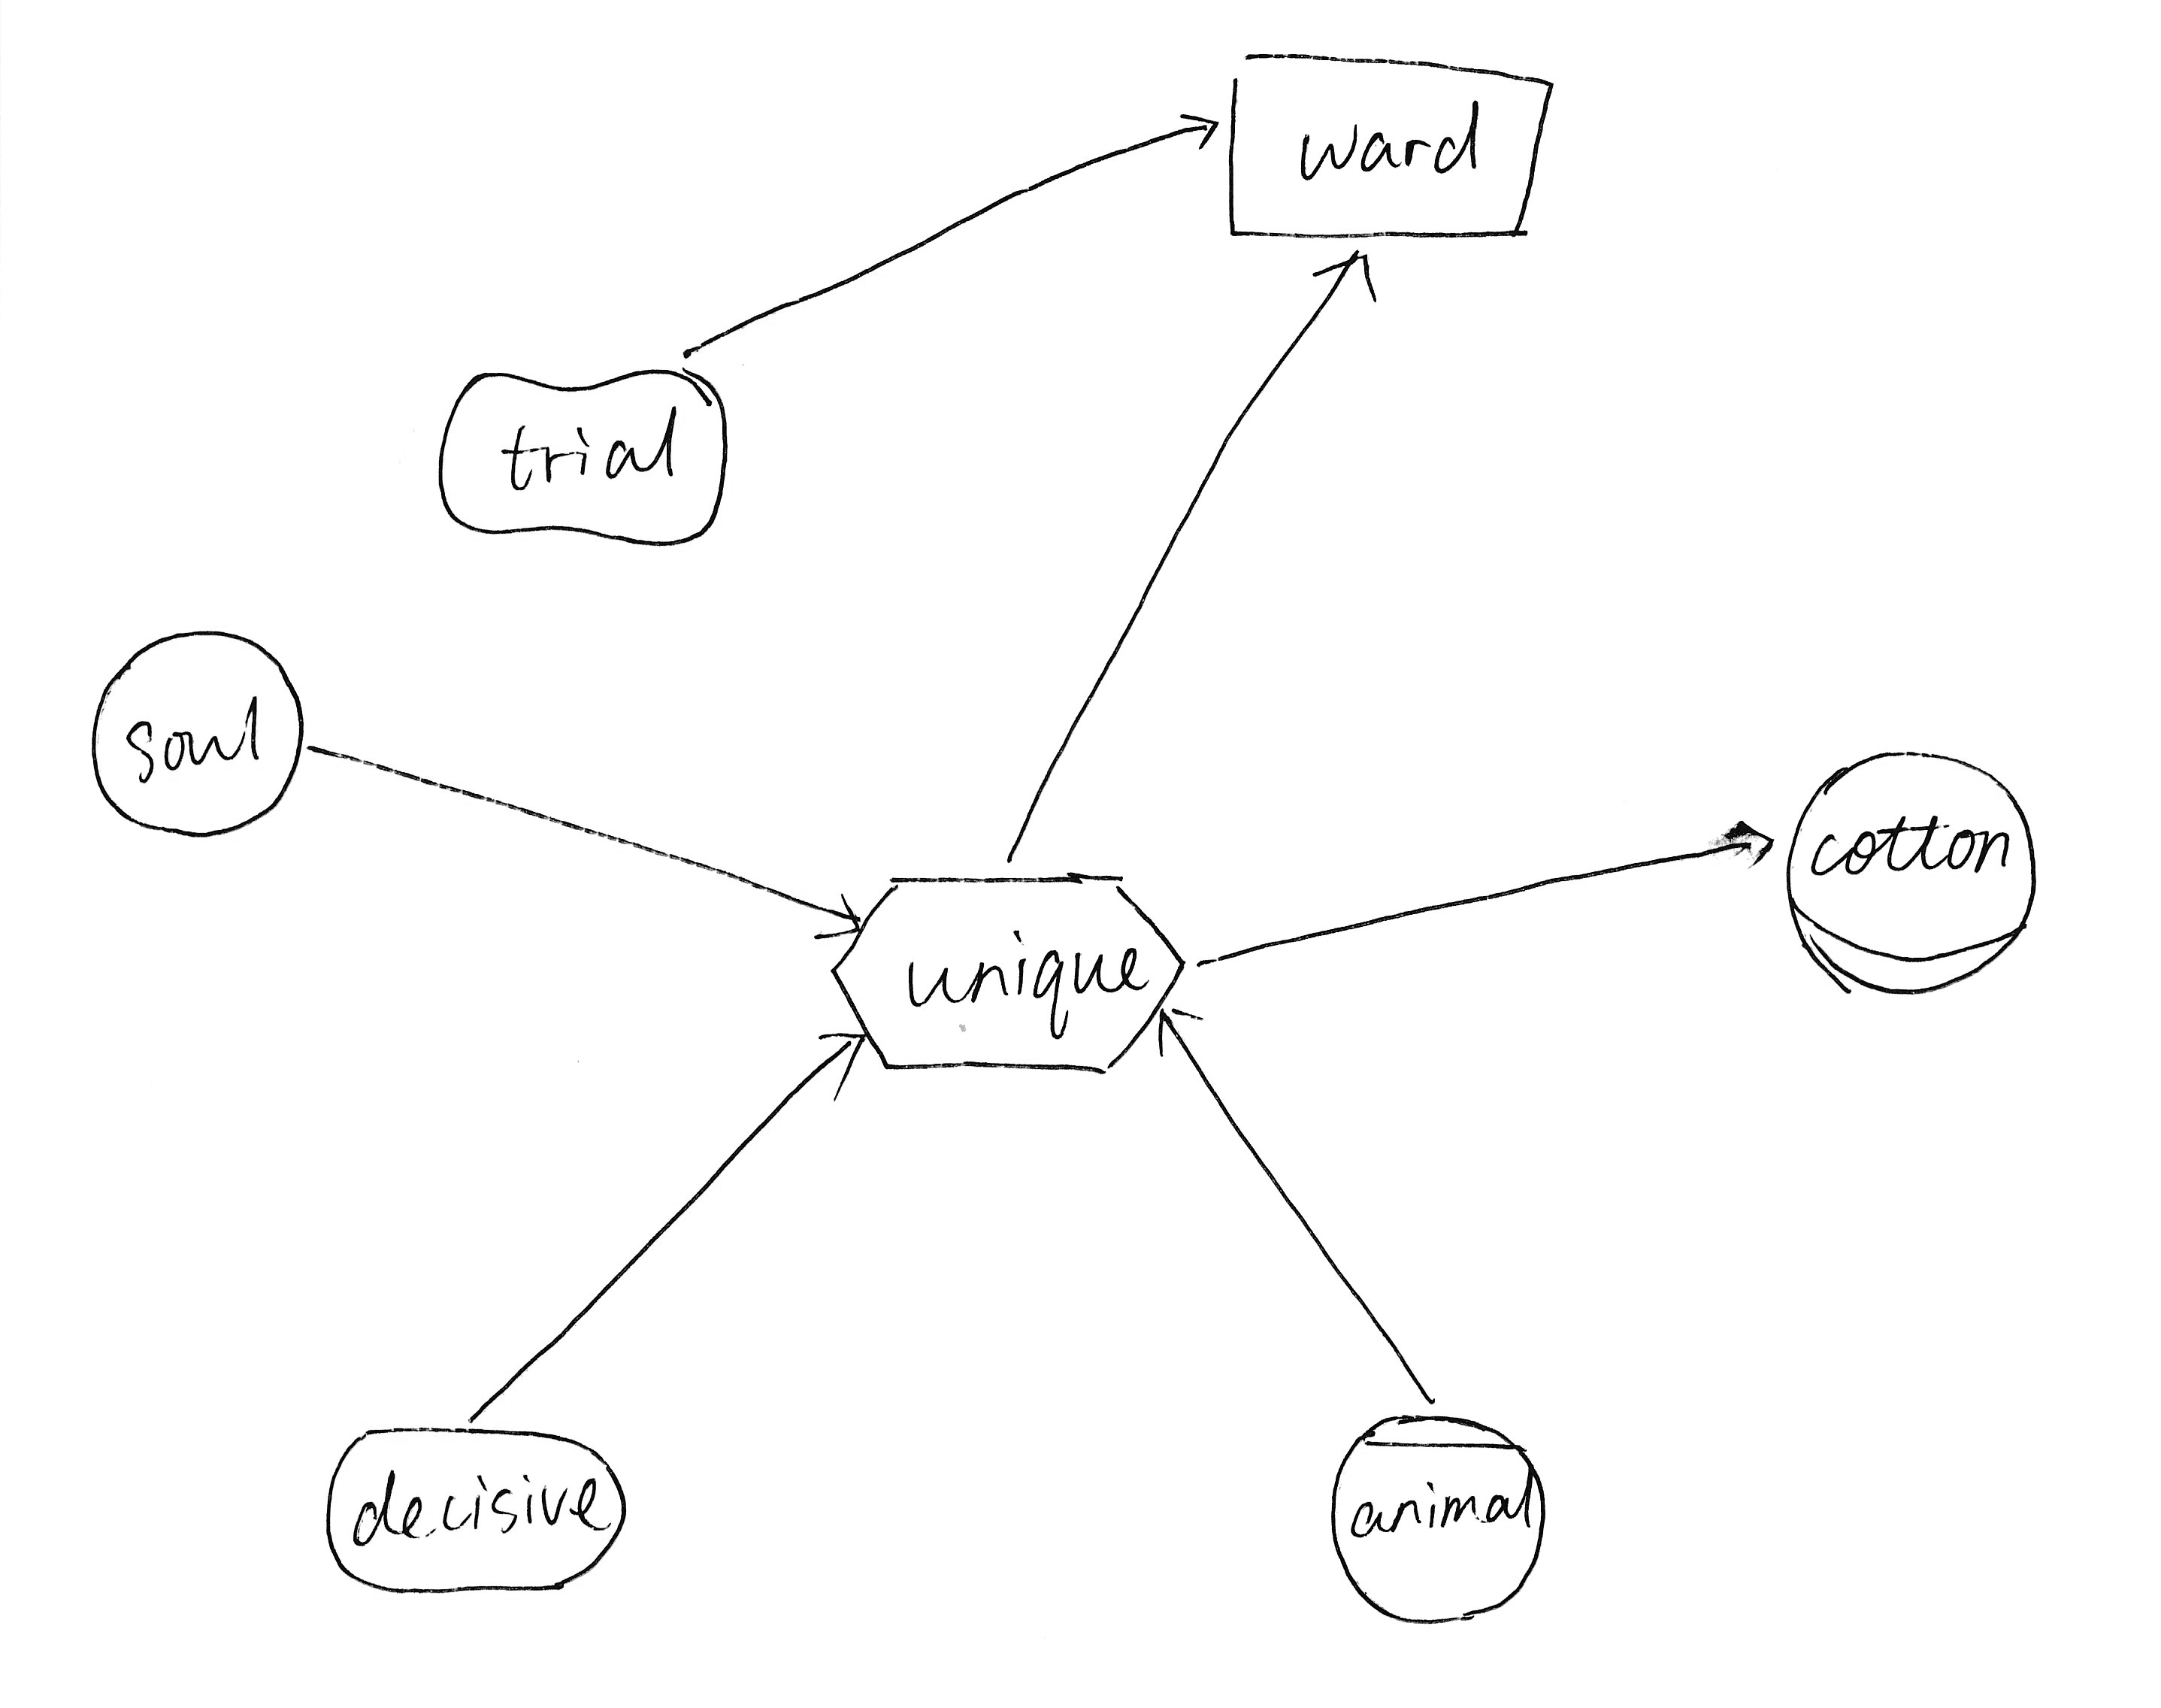actor: (75, 610, 317, 849)
agent: (1317, 1396, 1565, 1640)
arrow: (1302, 242, 1387, 317), (812, 1017, 882, 1107), (1168, 95, 1231, 175), (1149, 994, 1205, 1080), (1714, 803, 1780, 875), (812, 880, 874, 956)
goal: (312, 1410, 642, 1615)
quality: (424, 342, 754, 575)
resource: (1203, 26, 1563, 268)
role: (1770, 733, 2058, 1017)
task: (824, 859, 1196, 1091)
